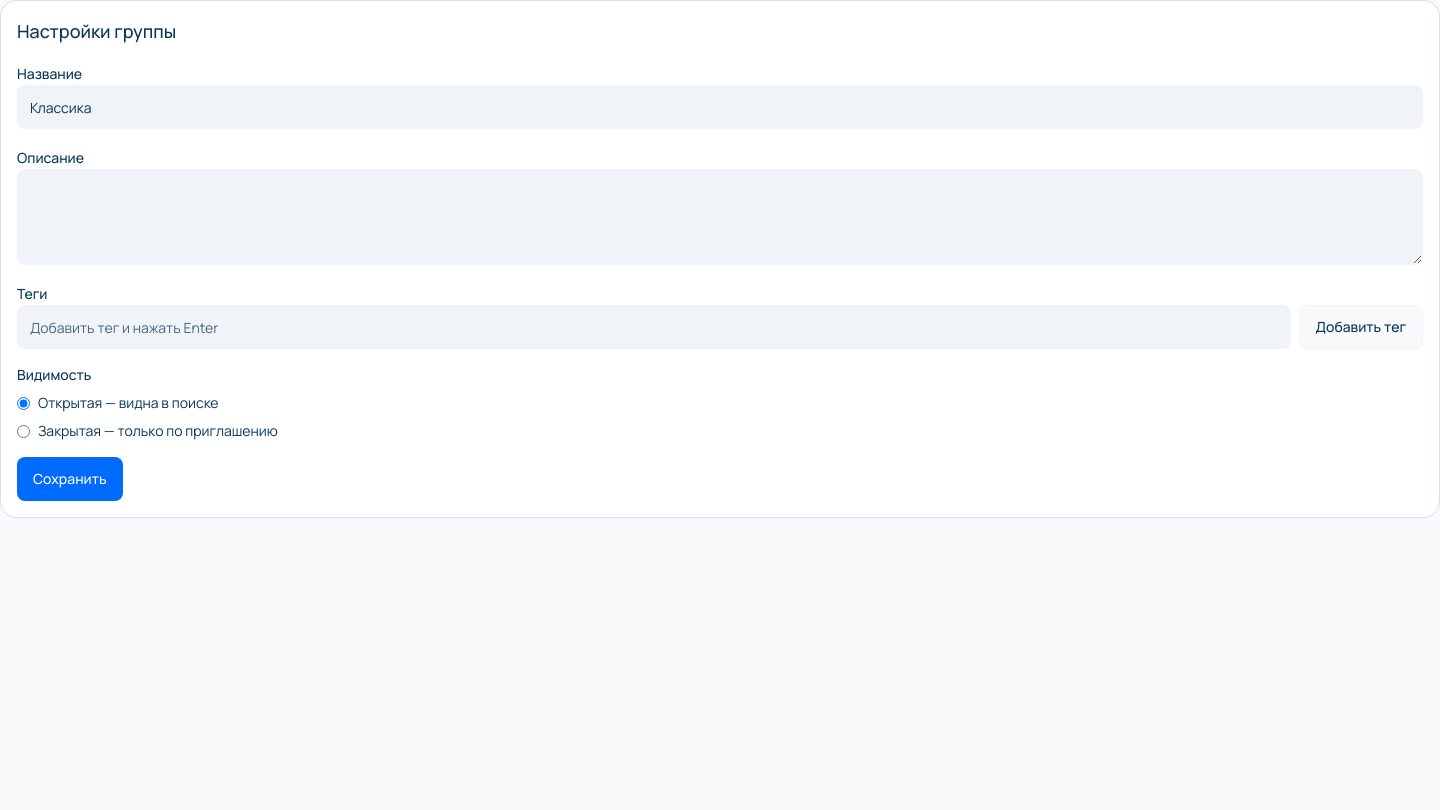
it: GroupSettingsForm › shows an error when saving fails
This screenshot has width=1440, height=810.
Step 1. Click the button "Сохранить" → (70, 479), box [17, 457, 123, 501]
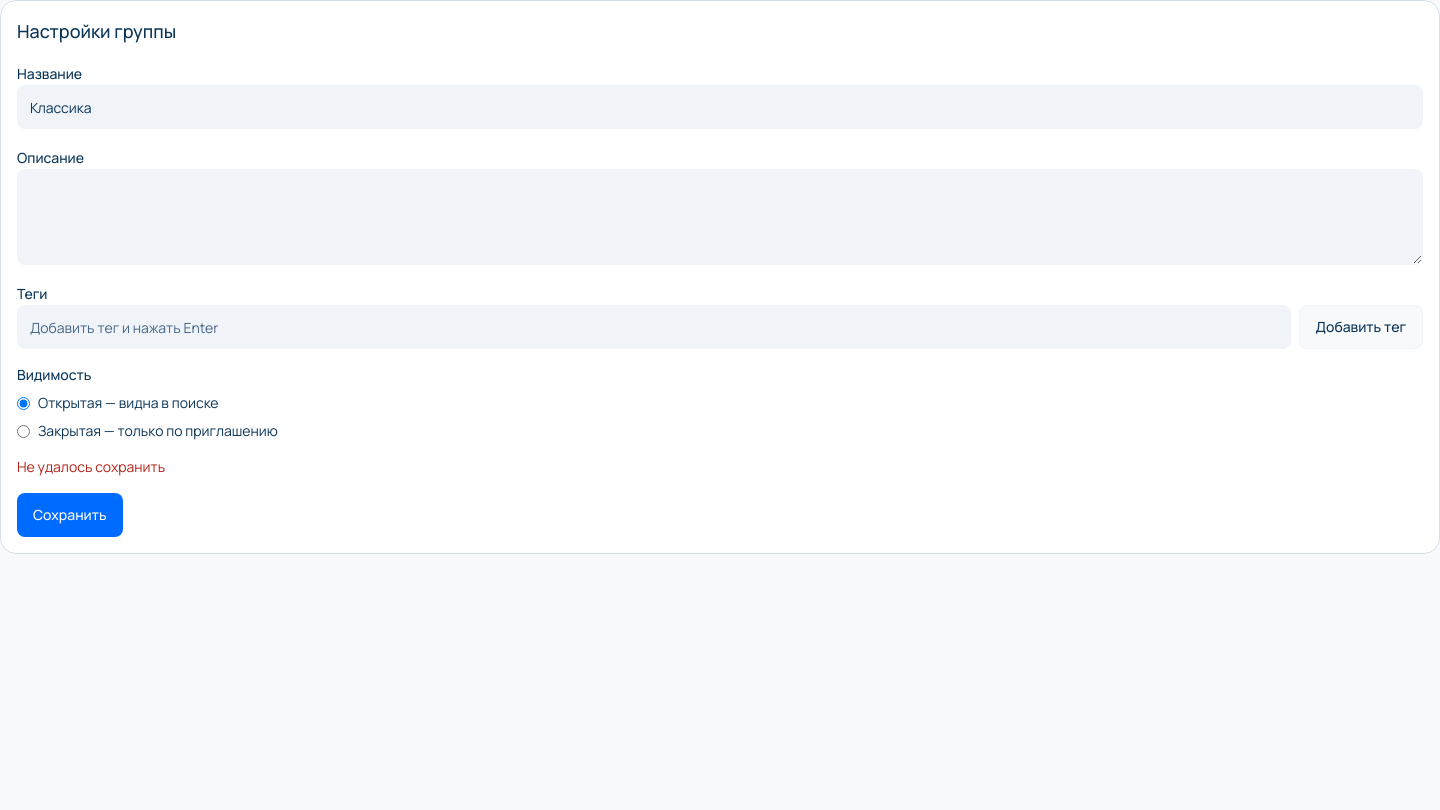
Expected: the message reads "Не удалось сохранить", [17, 457, 165, 476]
